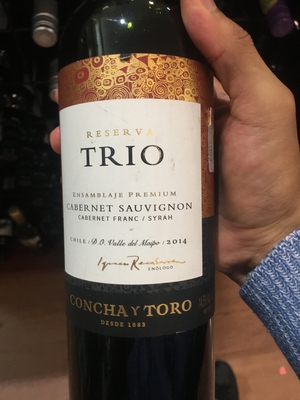trio cabernet sauvignon: (49, 16, 236, 395)
